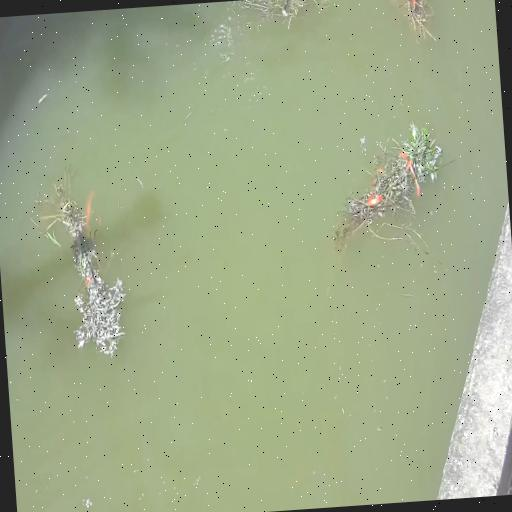twig: (28, 162, 132, 360), (324, 120, 454, 260), (31, 164, 88, 248), (237, 0, 321, 34), (392, 0, 438, 47)
